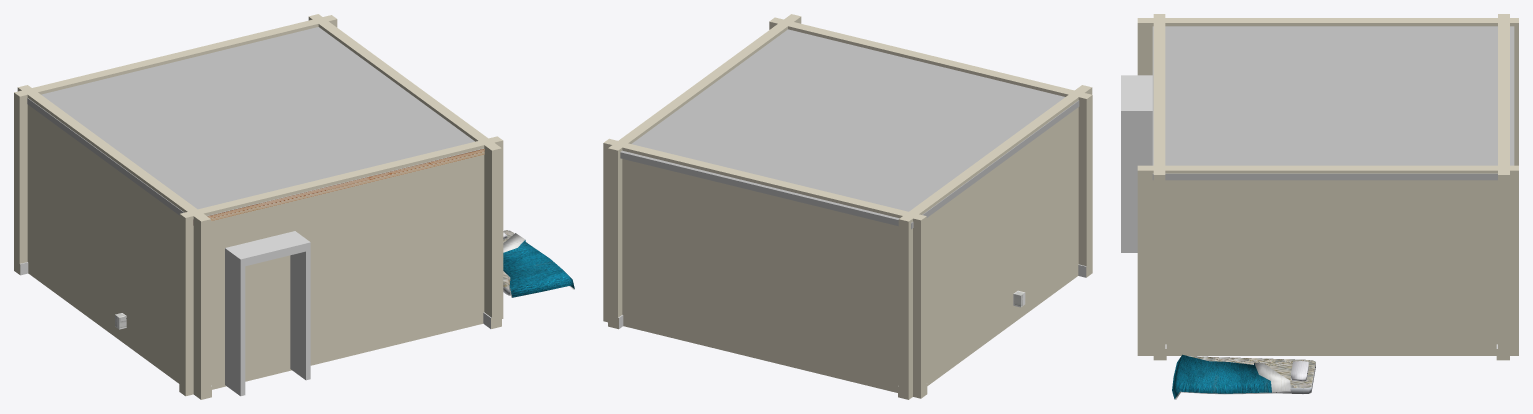
File: websiteRoomClosed.gltf
The picture shows the model from 3 angles, left to right: view 1: azimuth 30°, elevation 25°; view 2: azimuth 150°, elevation 25°; view 3: azimuth 270°, elevation 25°; orthographic projection. The views are drawn at different scales.
Visible parts, largest first — view 1: Cube.011, Cube.023, Cube.010, Cube.117, Cube.012, Cube.009, Plane.006; view 2: Cube.009, Cube.023, Cube.010, Cube.011, Cube.012; view 3: Cube.012, Cube.023, Cube.010, Cube.011, Cube.117, Cube.009, Plane.006, Cube.118.
Part boxes in pixels (<box>): Cube.011: <box>179,136,503,396</box>; Cube.023: <box>27,27,484,225</box>; Cube.010: <box>17,85,211,399</box>; Cube.117: <box>225,231,310,396</box>; Cube.012: <box>308,14,501,328</box>; Cube.009: <box>14,15,337,275</box>; Plane.006: <box>503,233,574,297</box>; Cube.009: <box>603,138,927,398</box>; Cube.023: <box>620,29,1079,229</box>; Cube.010: <box>898,85,1092,399</box>; Cube.011: <box>769,17,1092,277</box>; Cube.012: <box>608,14,801,329</box>; Cube.012: <box>1137,165,1518,355</box>; Cube.023: <box>1152,26,1514,180</box>; Cube.010: <box>1137,18,1518,165</box>; Cube.011: <box>1153,14,1166,360</box>; Cube.117: <box>1121,75,1152,252</box>; Cube.009: <box>1496,14,1509,360</box>; Plane.006: <box>1172,354,1291,399</box>; Cube.118: <box>1190,356,1315,393</box>.
Bounding box in the file's own units: 20.69 × 8.73 × 16.98.
